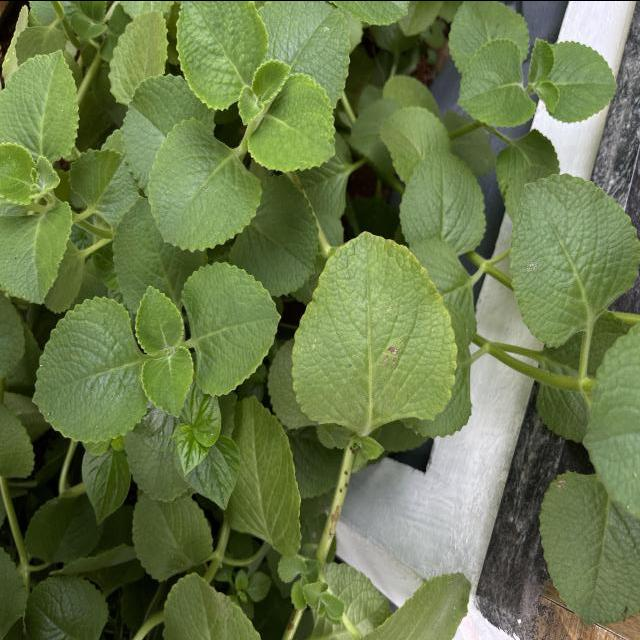Plectranthus barbatus: (289, 230, 460, 432), (508, 170, 640, 350), (30, 295, 148, 443), (146, 115, 264, 253), (537, 468, 640, 626), (180, 260, 282, 397), (226, 172, 320, 297), (174, 0, 270, 111), (398, 147, 488, 256), (0, 48, 81, 162), (246, 72, 337, 173), (130, 486, 214, 582), (0, 199, 74, 304), (457, 36, 537, 128), (546, 40, 618, 124), (107, 8, 170, 104), (22, 574, 113, 640), (378, 105, 452, 182), (140, 347, 196, 418), (134, 283, 184, 355)
